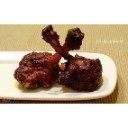chicken_lollipop: (13, 27, 106, 92)
